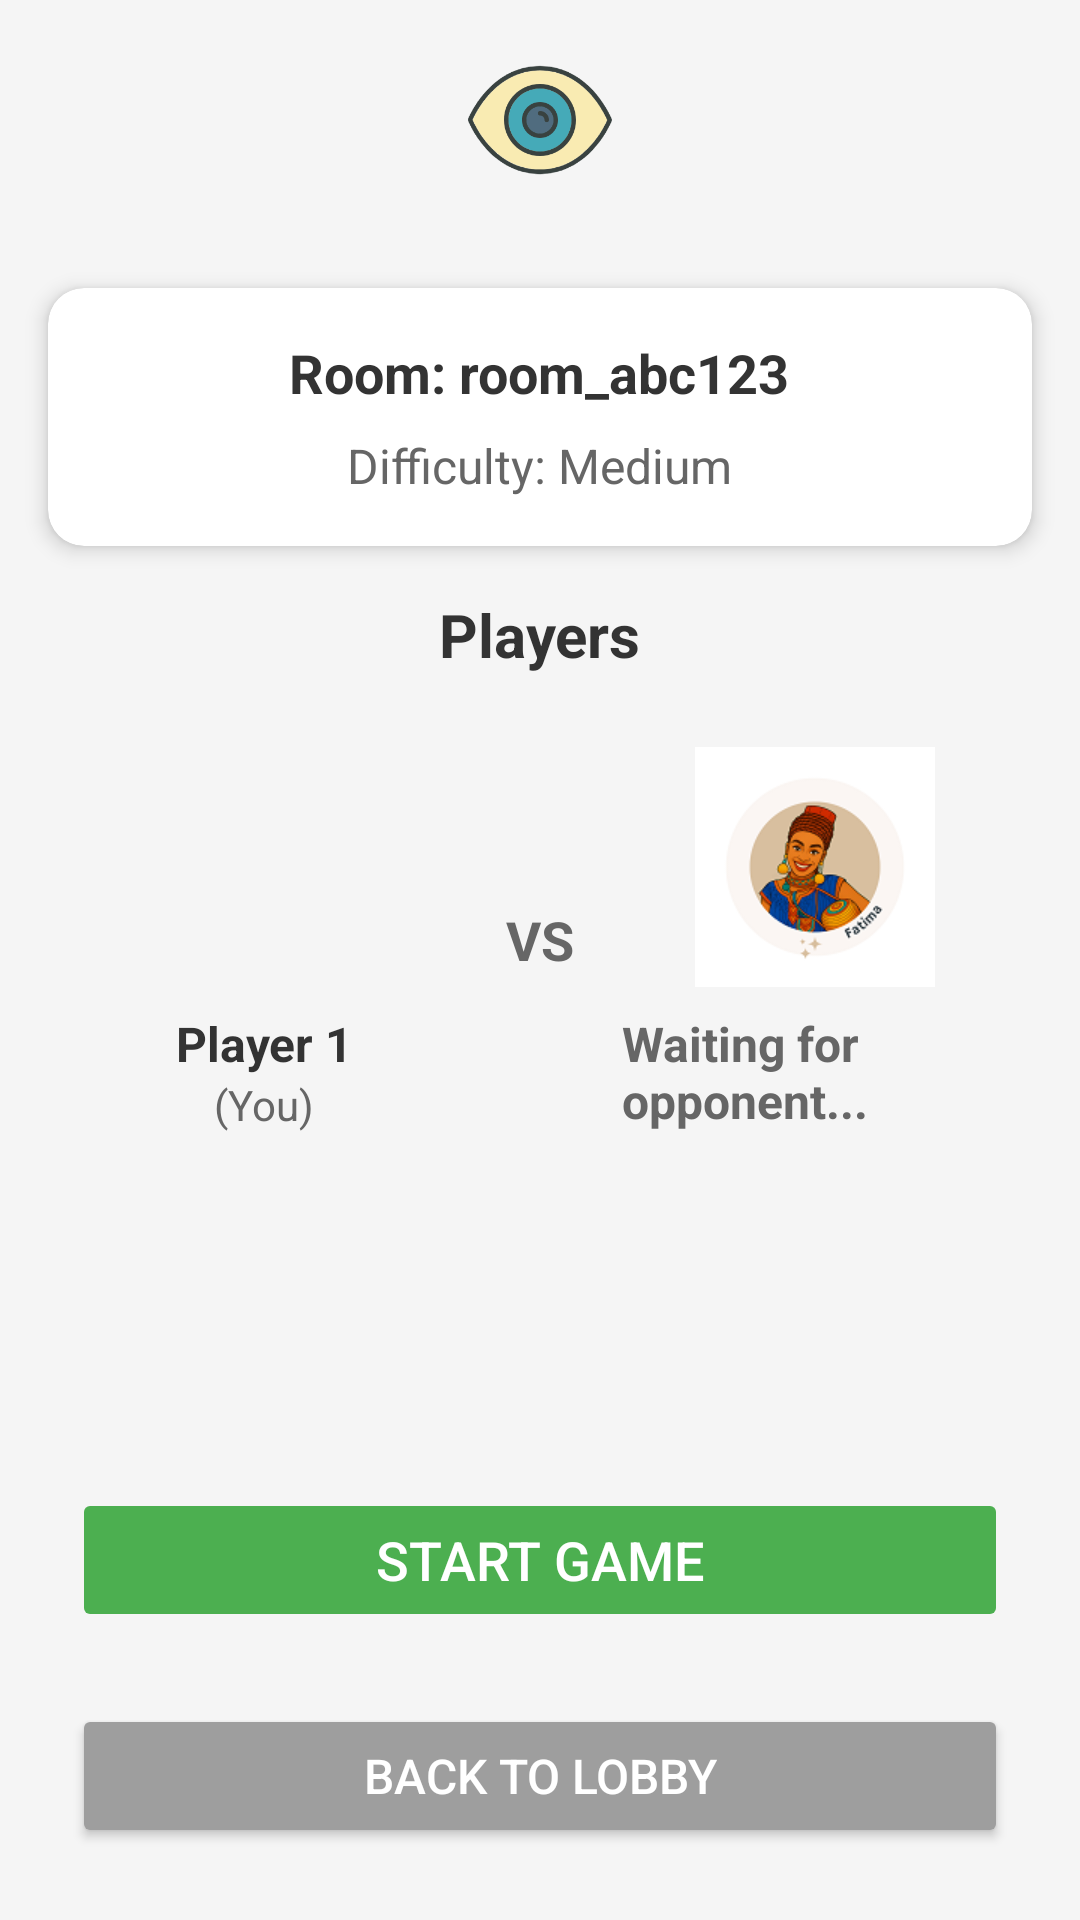

Icon bounding boxes for this 1080px×1920px phone screenshot, format [left=x1, top=y1, right=x2, bottom=y2]:
Player 2 Avatar: [left=749, top=801, right=883, bottom=958]
